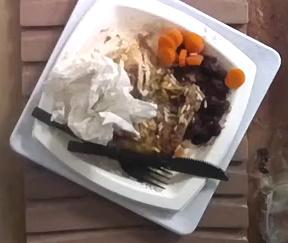black_beans: (174, 56, 230, 144)
carrots: (157, 28, 204, 67), (224, 69, 245, 88)
chicken: (110, 52, 205, 155)
